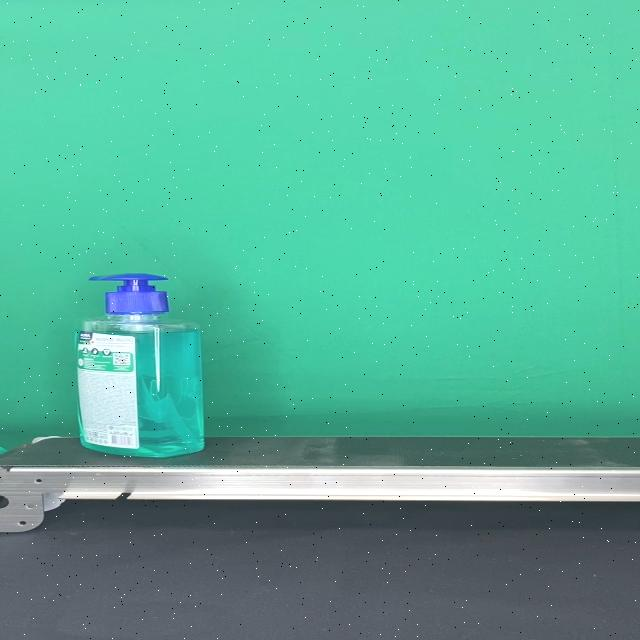Bottle: (73, 273, 204, 458)
Cap: (88, 274, 170, 315)
